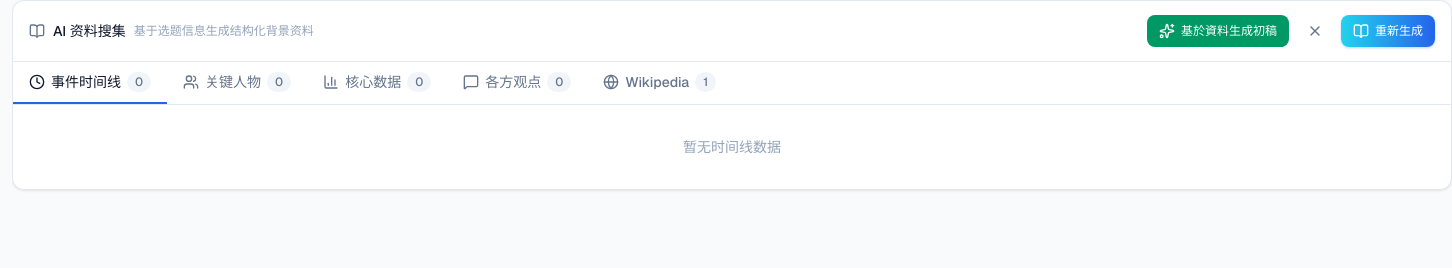
ResearchKitPanel › should render Wikipedia entry details when tab clicked
This screenshot has width=1452, height=268.
Click the button "Wikipedia 1".
click(660, 83)  # box [587, 62, 732, 104]
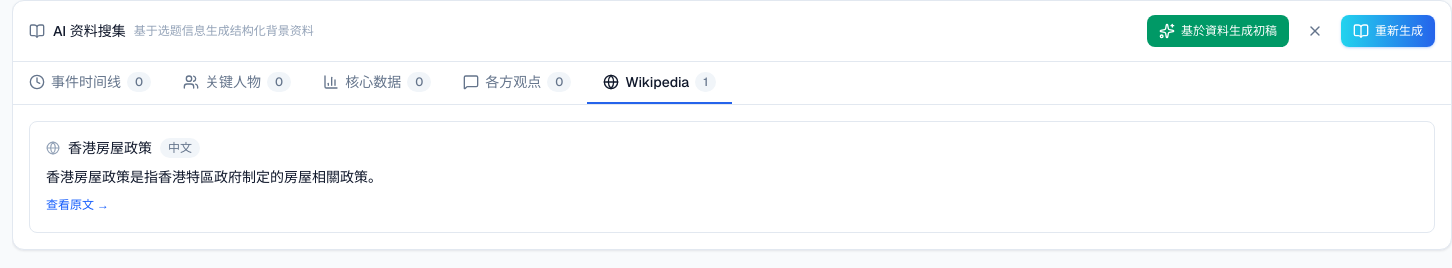
Expected: the text "香港房屋政策" is shown, [68, 138, 152, 158]
Expected: the text "中文" is shown, [160, 138, 200, 158]
Expected: the text "香港房屋政策是指香港特區政府制定的房屋相關政策。" is shown, [46, 168, 382, 186]
